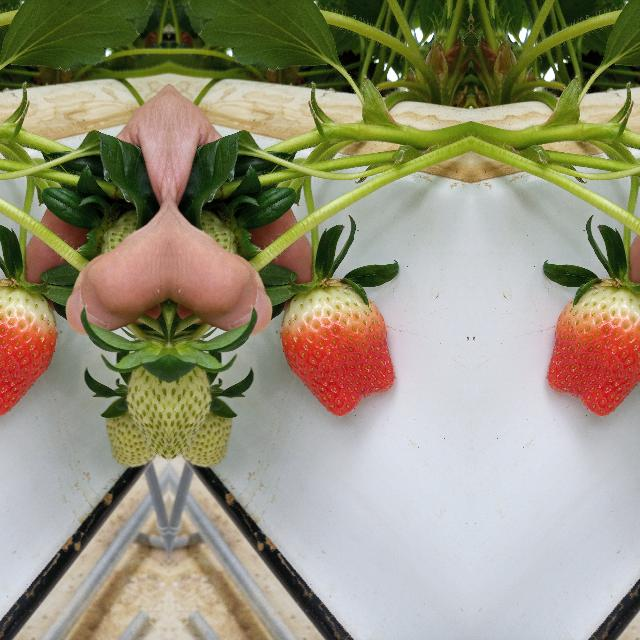Health_25: (172, 336, 202, 462), (134, 336, 164, 462)
Health_75: (278, 286, 396, 416), (545, 285, 640, 416), (0, 285, 57, 416)
